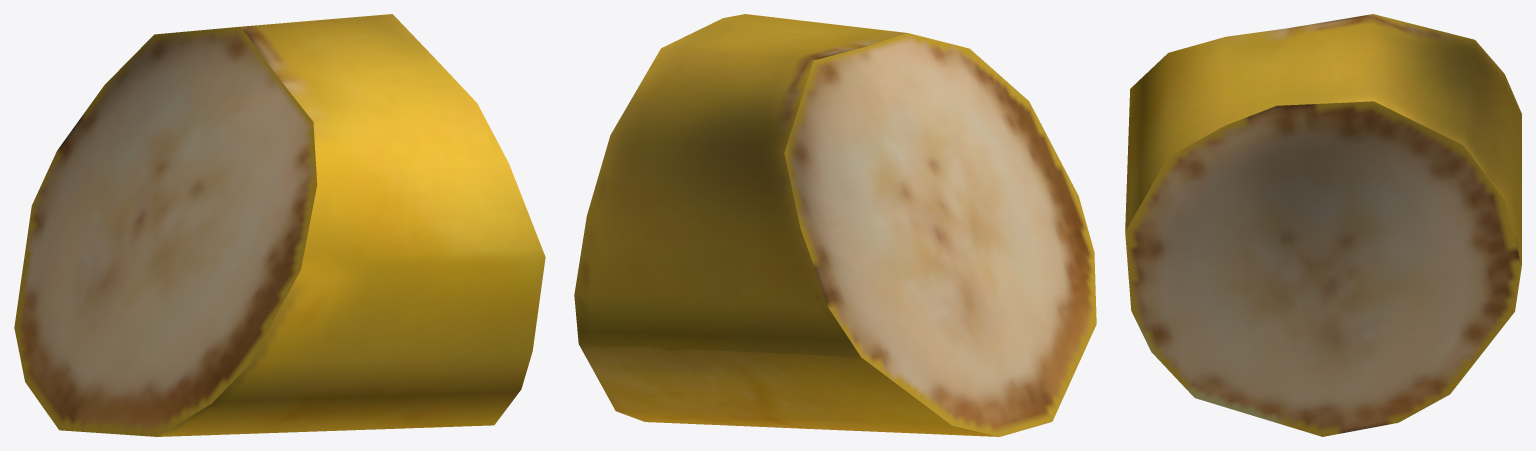
Rendered from banana_part_2.FBX.
The picture shows the model from 3 angles, left to right: view 1: azimuth 30°, elevation 25°; view 2: azimuth 150°, elevation 25°; view 3: azimuth 270°, elevation 25°; orthographic projection. The views are drawn at different scales.
Parts seen in each view (by area): view 1: banana_part_2; view 2: banana_part_2; view 3: banana_part_2.
Boxes of the visible parts, bbox=[...] form: banana_part_2: bbox=[14, 14, 545, 436]; banana_part_2: bbox=[574, 14, 1096, 436]; banana_part_2: bbox=[1125, 14, 1521, 436].
Bounding box in the file's own units: 0.1224 × 0.1254 × 0.1264.
